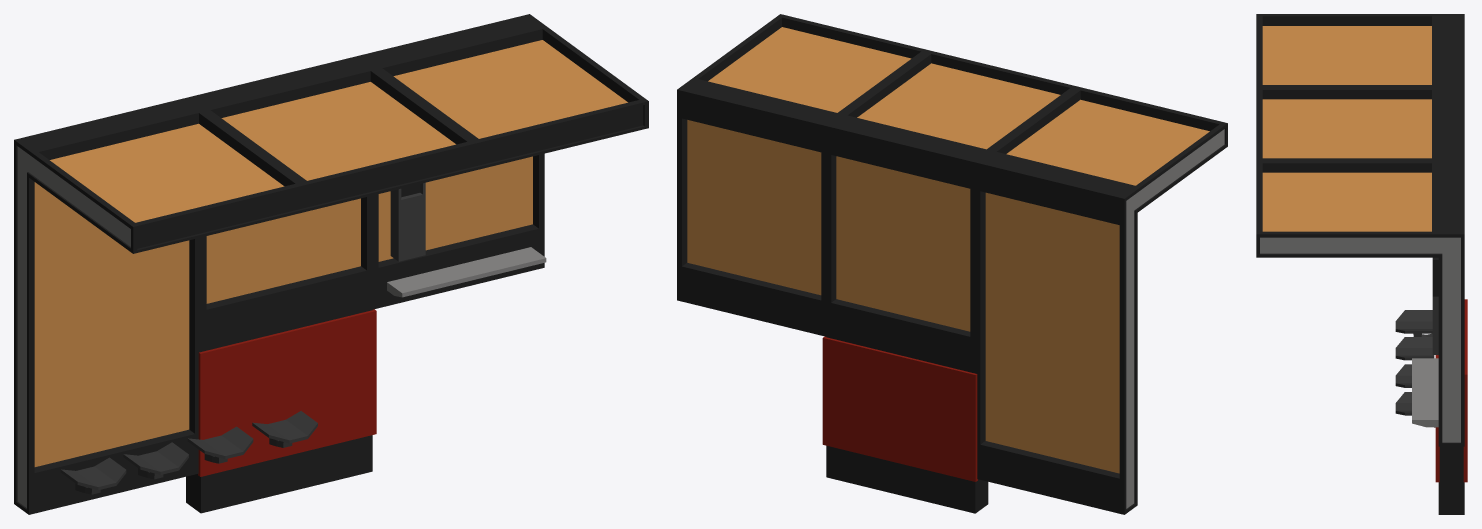
File: CityObjects.fbx_BusStop.fbx
3 views of the same model, side by side, from view 1: azimuth 30°, elevation 25°; view 2: azimuth 150°, elevation 25°; view 3: azimuth 270°, elevation 25° (orthographic). The views are drawn at different scales.
Visible parts, largest first — view 1: BusStop; view 2: BusStop; view 3: BusStop.
Boxes of the visible parts, box(x1,y1,x2,y2) form: BusStop: box(14, 14, 648, 514); BusStop: box(677, 14, 1227, 514); BusStop: box(1256, 14, 1467, 514).
Size of the model in its own units: 400 by 300 by 162.
